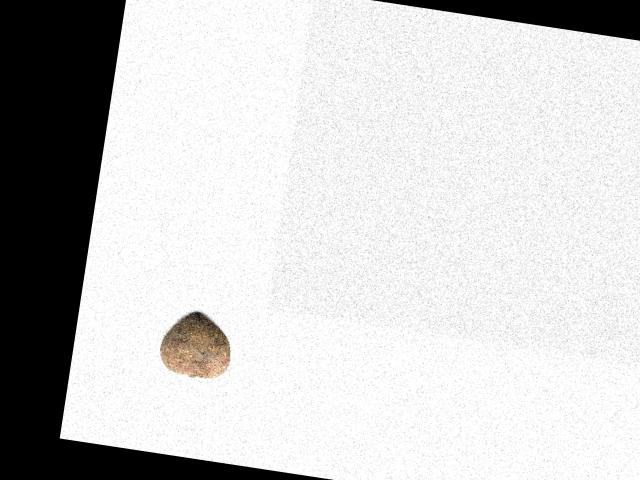beet: (156, 307, 236, 381)
